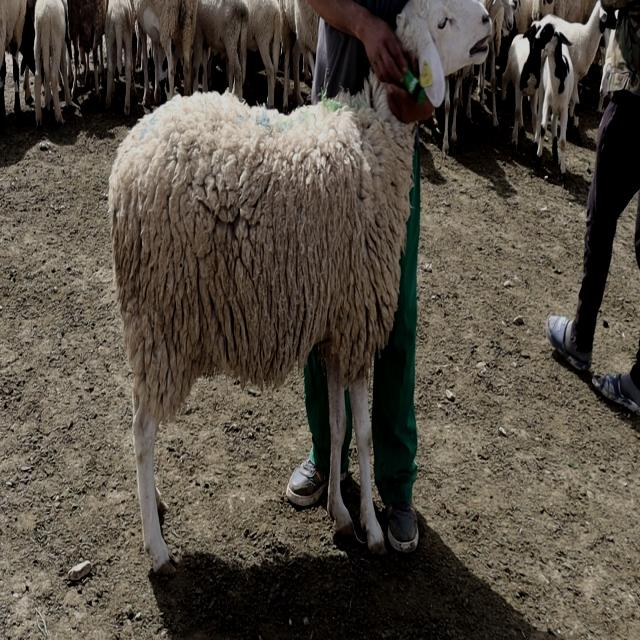Score_2: (108, 75, 417, 572)
